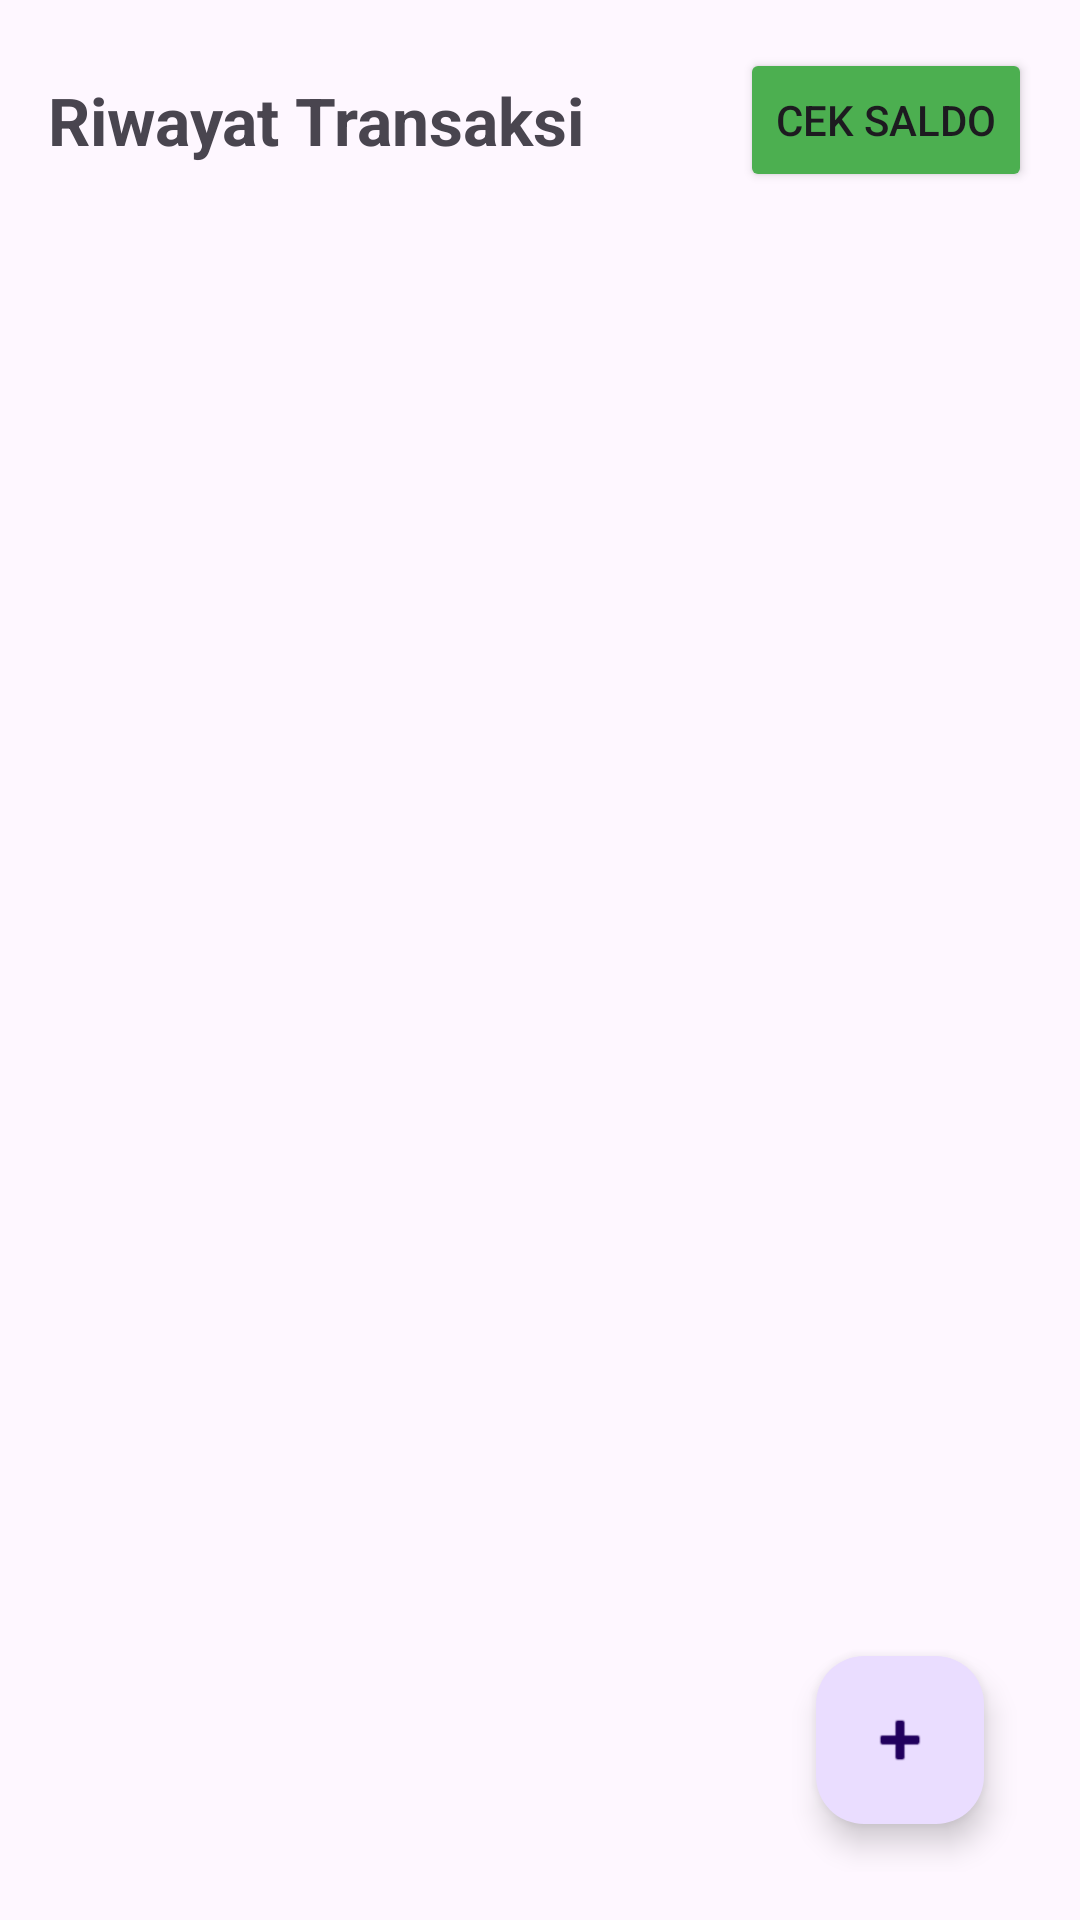

Icon bounding boxes for this 1080×1920 phone screenshot, format [x1=x1, y1=y1, x2=x2, y2=y2]:
Tambah Transaksi: [x1=816, y1=1656, x2=984, y2=1824]
